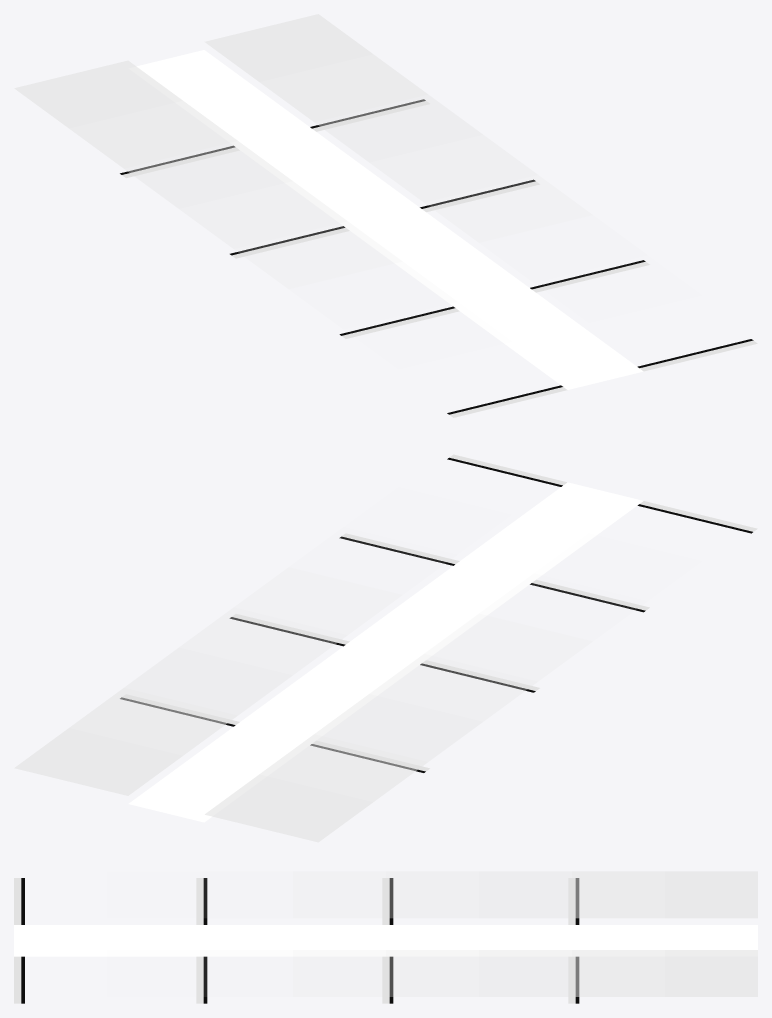
File: meter.glb
3 views of the same model, one above another, from view 1: azimuth 30°, elevation 25°; view 2: azimuth 150°, elevation 25°; view 3: azimuth 270°, elevation 25° (orthographic). The views are drawn at different scales.
Visible parts, largest first — view 1: meter, meter-amount; view 2: meter, meter-amount; view 3: meter, meter-amount.
Part boxes in pixels (<box>): meter: <box>14,14,757,417</box>; meter-amount: <box>129,50,643,389</box>; meter: <box>14,454,757,842</box>; meter-amount: <box>128,482,643,822</box>; meter: <box>14,871,757,1003</box>; meter-amount: <box>14,925,757,956</box>.
Bounding box in the file's own units: 0.4 × 0.01 × 1.
2 materials, 1 textured.
